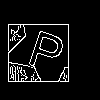P: (25, 20, 70, 75)
